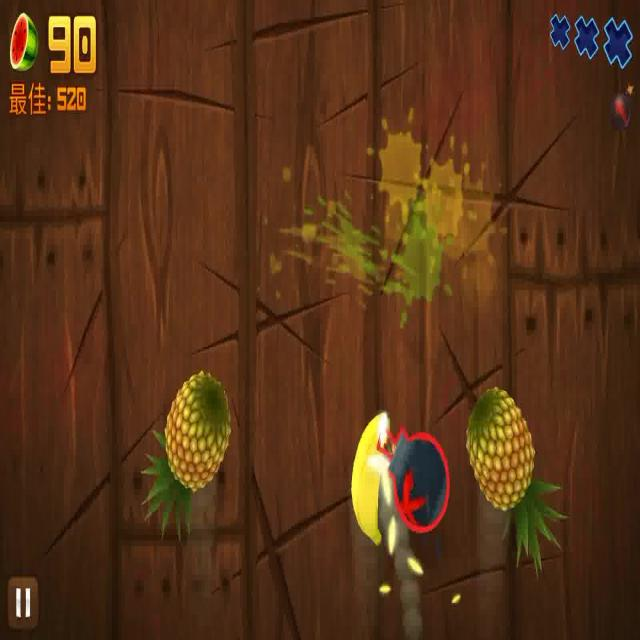bomb: (383, 376, 449, 538)
fruit: (467, 370, 561, 581), (136, 356, 233, 544), (342, 410, 390, 550)
